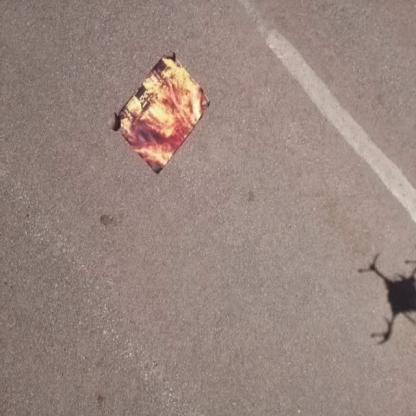fire-poster: (113, 50, 211, 176)
